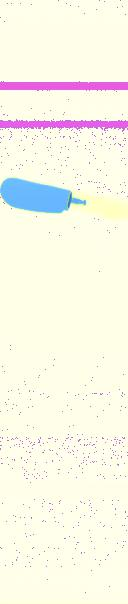Knife: (1, 176, 127, 223)
